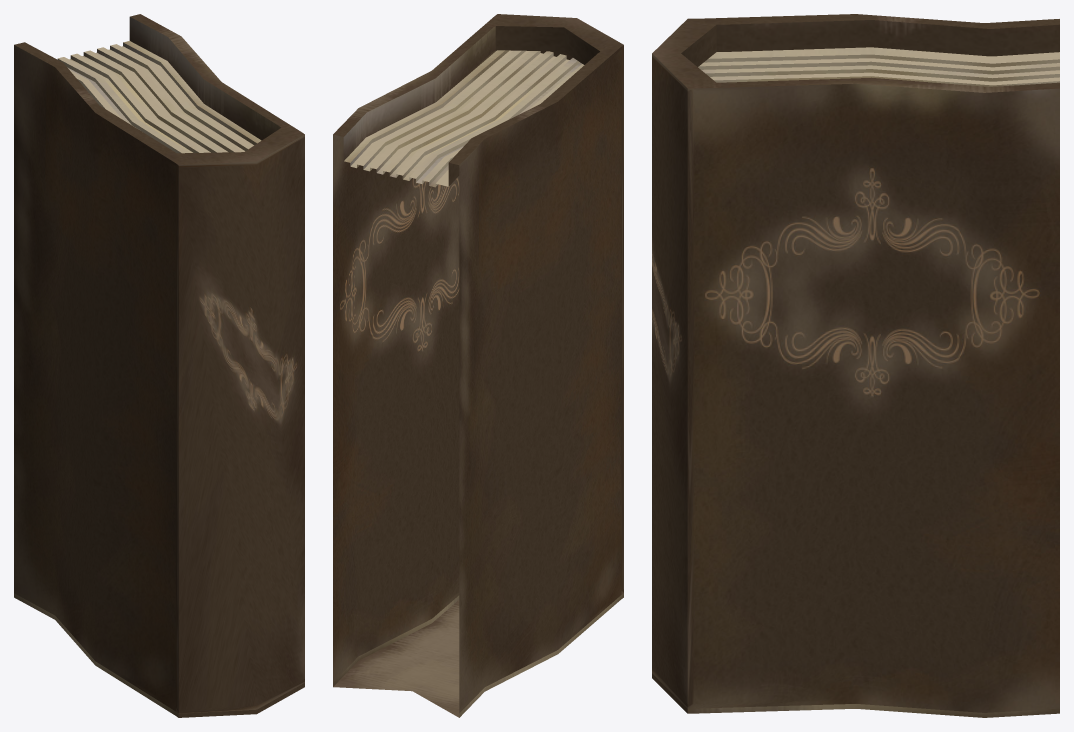
Rendered from bookVintage.obj.
3 renders of one model, left to right at view 1: azimuth 30°, elevation 25°; view 2: azimuth 150°, elevation 25°; view 3: azimuth 270°, elevation 25°, orthographic. The views are drawn at different scales.
Parts seen in each view (by area): view 1: book15, textureEditorIsolateSelectSet book15; view 2: book15; view 3: book15.
Part boxes in pixels (<box>): book15: <box>14,14,304,717</box>; textureEditorIsolateSelectSet book15: <box>14,161,256,709</box>; book15: <box>333,14,623,717</box>; book15: <box>652,14,1059,717</box>.
Bounding box in the file's own units: 1.57 × 5.8 × 3.43.
1 material, 1 textured.
